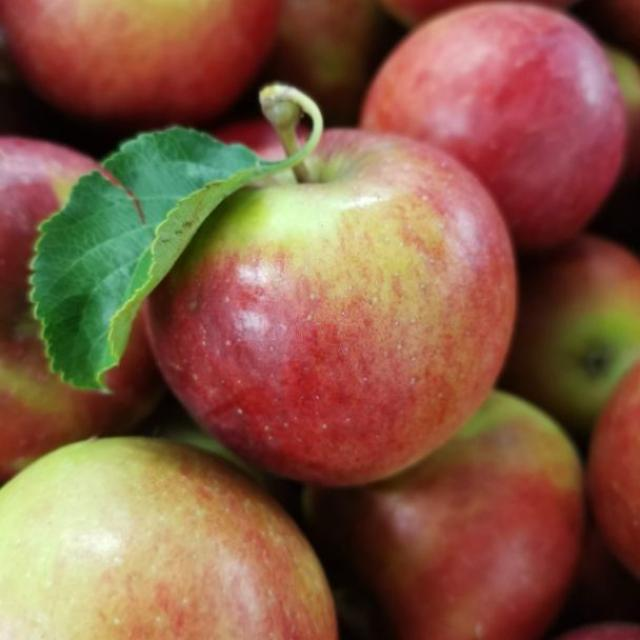Healty Apple: (142, 86, 529, 488)
